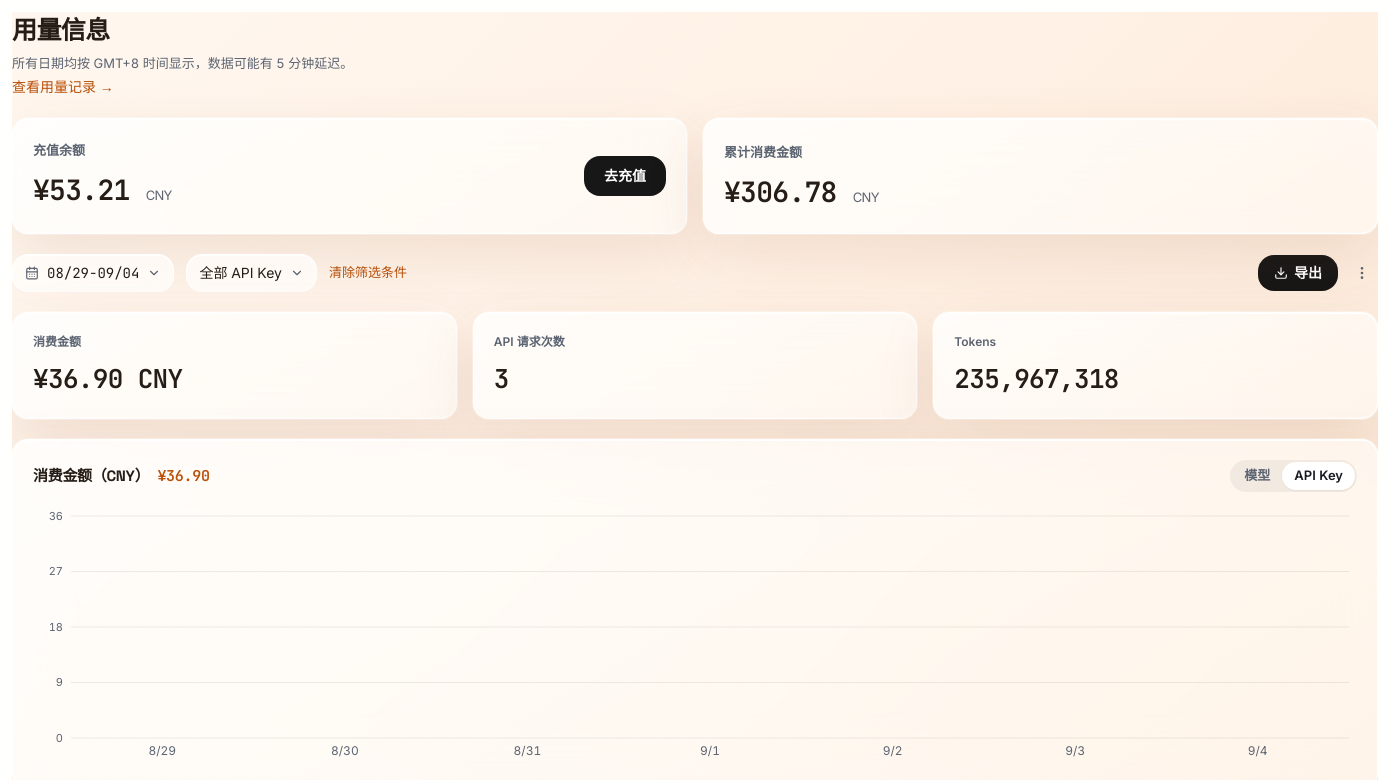
Test: Dashboard（用量信息） › renders filter toolbar with range picker, api key and export
Expected: the button "清除筛选条件" is shown, [329, 263, 407, 283]
Expected: the text "全部 API Key" is shown, [199, 263, 282, 283]
# 打开 API Key 下拉后能看到密钥选项
Click the button with aria-label "API Key 筛选" at {"x": 252, "y": 273}, box [186, 254, 317, 292]
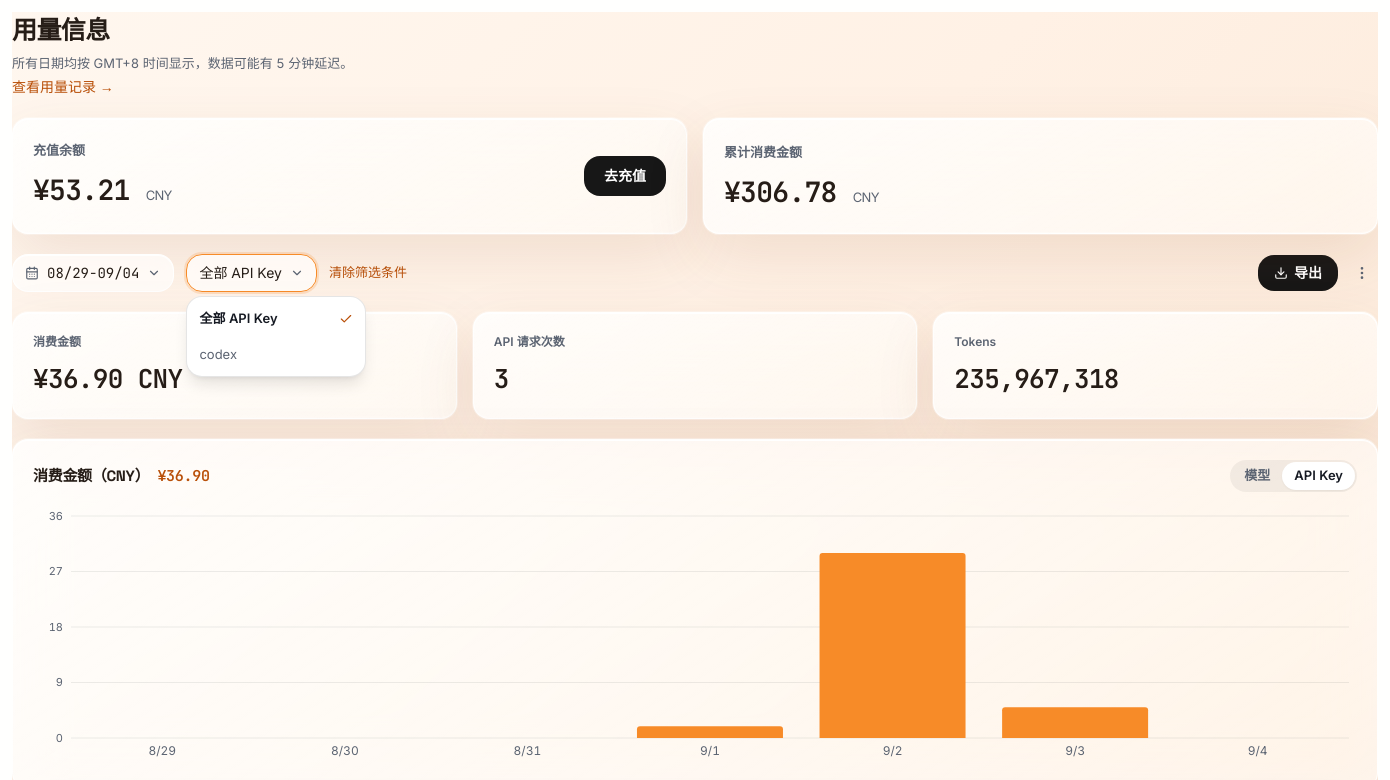
Now the text "codex" is shown, box [199, 344, 237, 364]
